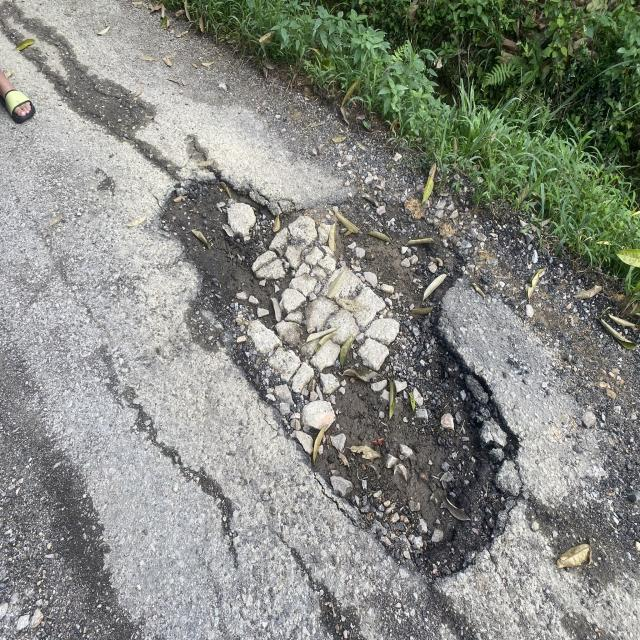Pothole: (133, 93, 542, 624)
